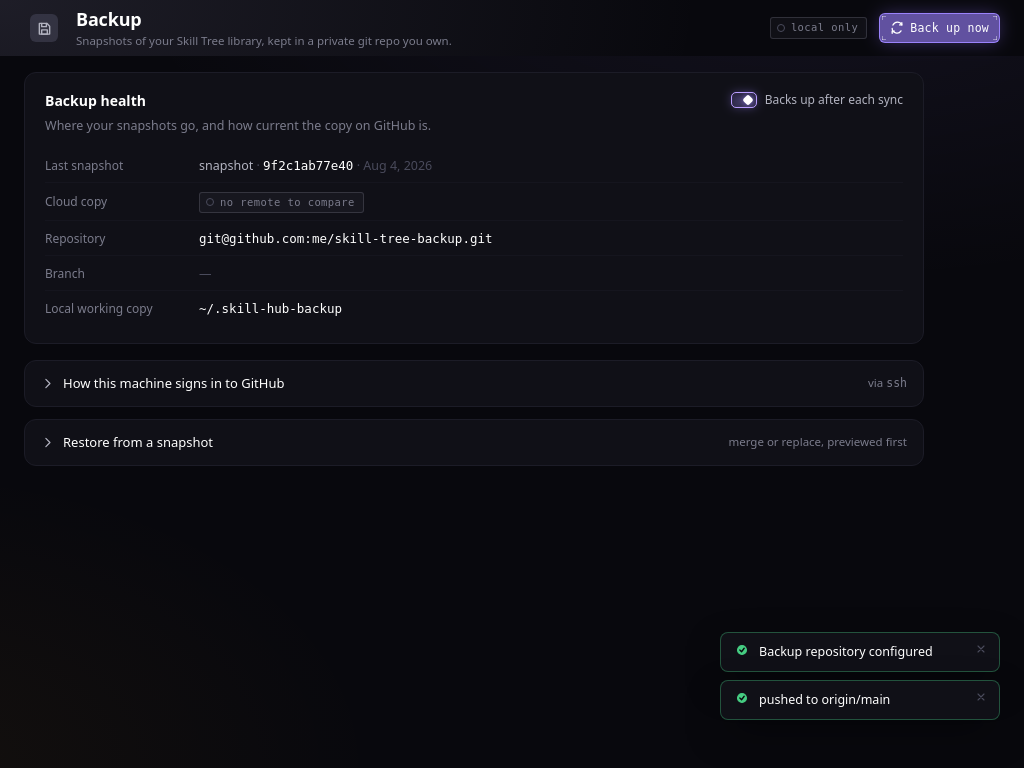
Backup — progressive disclosure never hides a problem › stays collapsed — and closable — when everything is fine
Expected: the element with test id "backup-health" is shown, [24,72,924,344]
Click the button with test id "backup-credential-disclosure": (174, 383) [25,361,923,406]
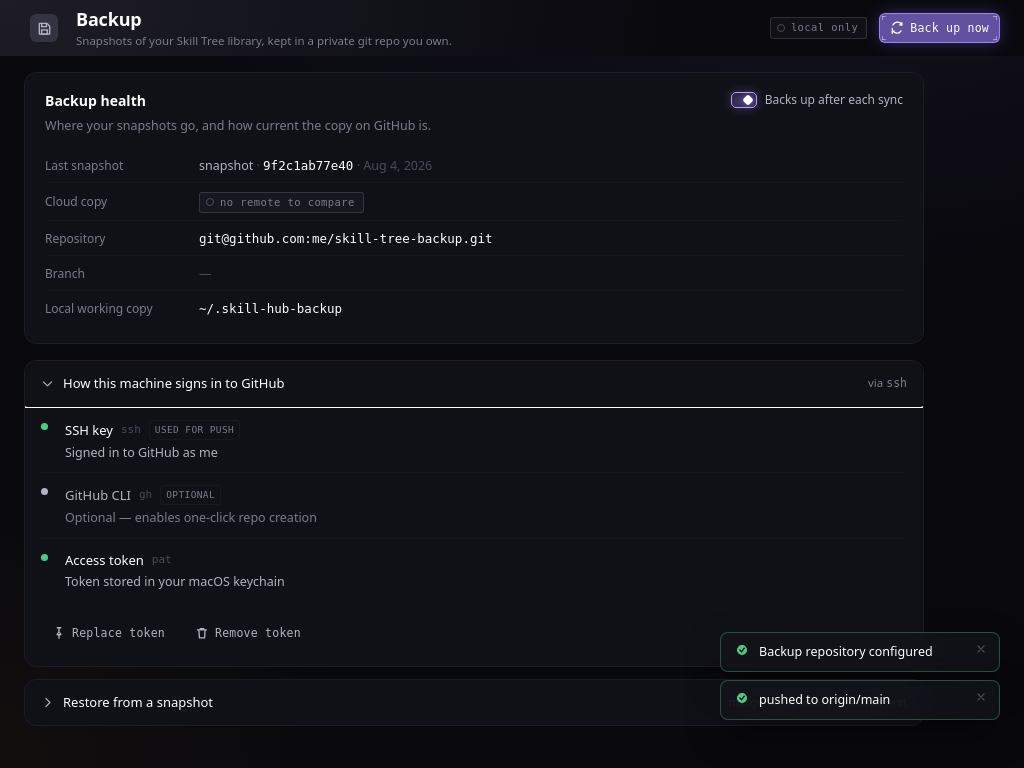
Expected: the element with test id "auth-rung-ssh" is shown, [41,410,907,473]
Click the button with test id "backup-credential-disclosure": (174, 383) [25,361,923,406]
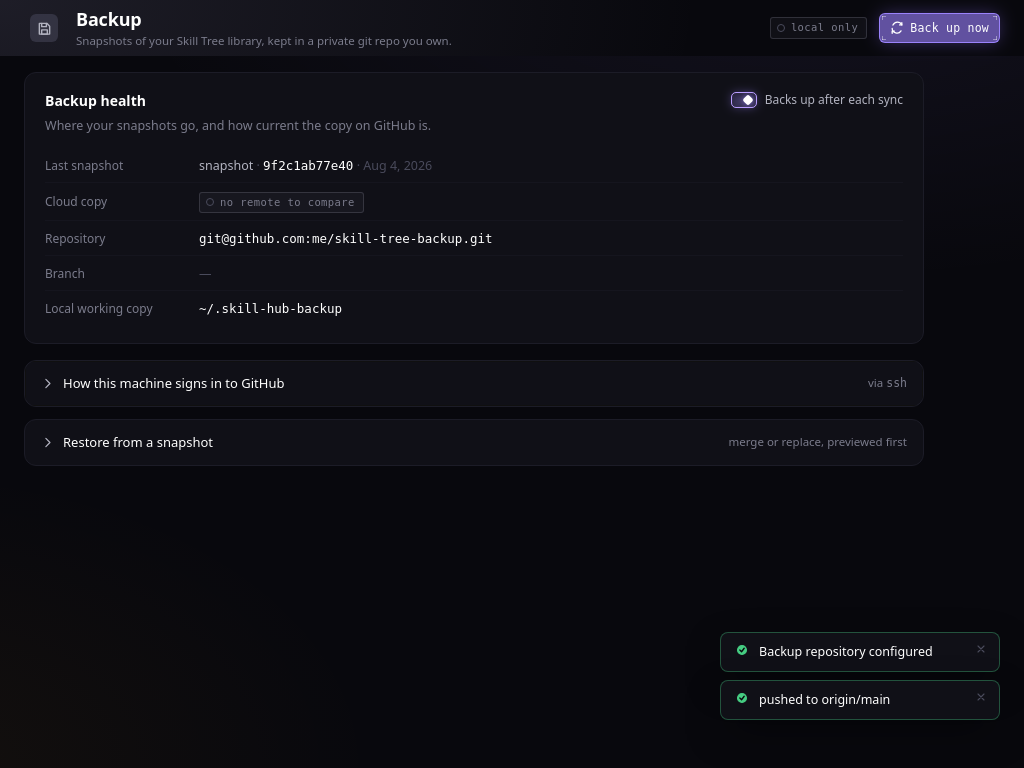
Expected: the element with test id "auth-rung-ssh" is gone
